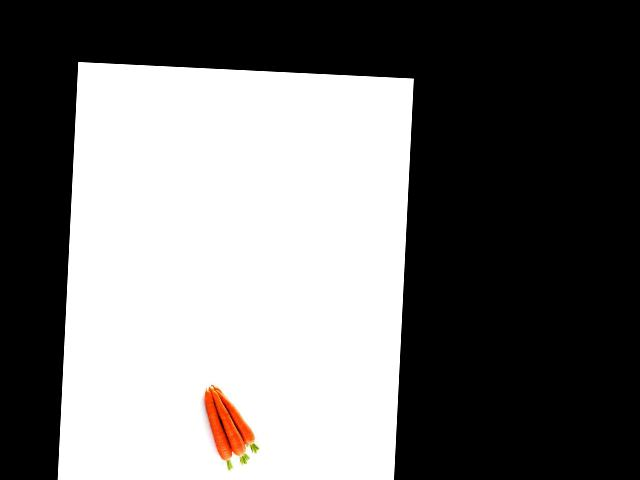carrot: (199, 391, 236, 467)
